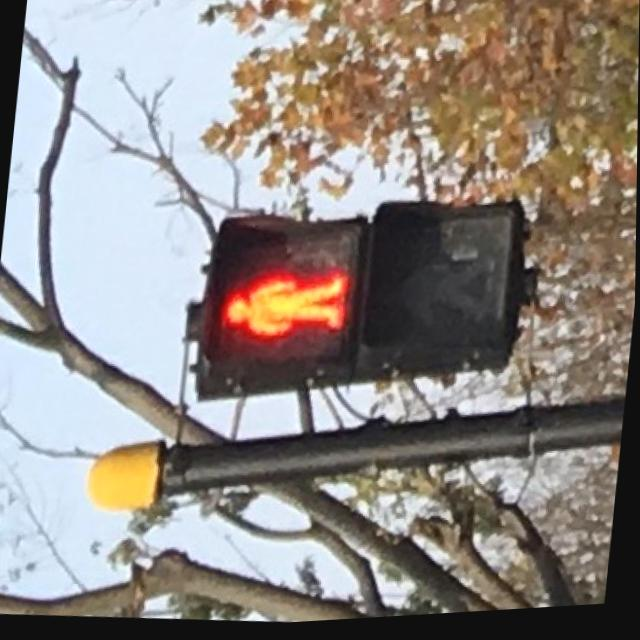red_light: (194, 221, 357, 396)
